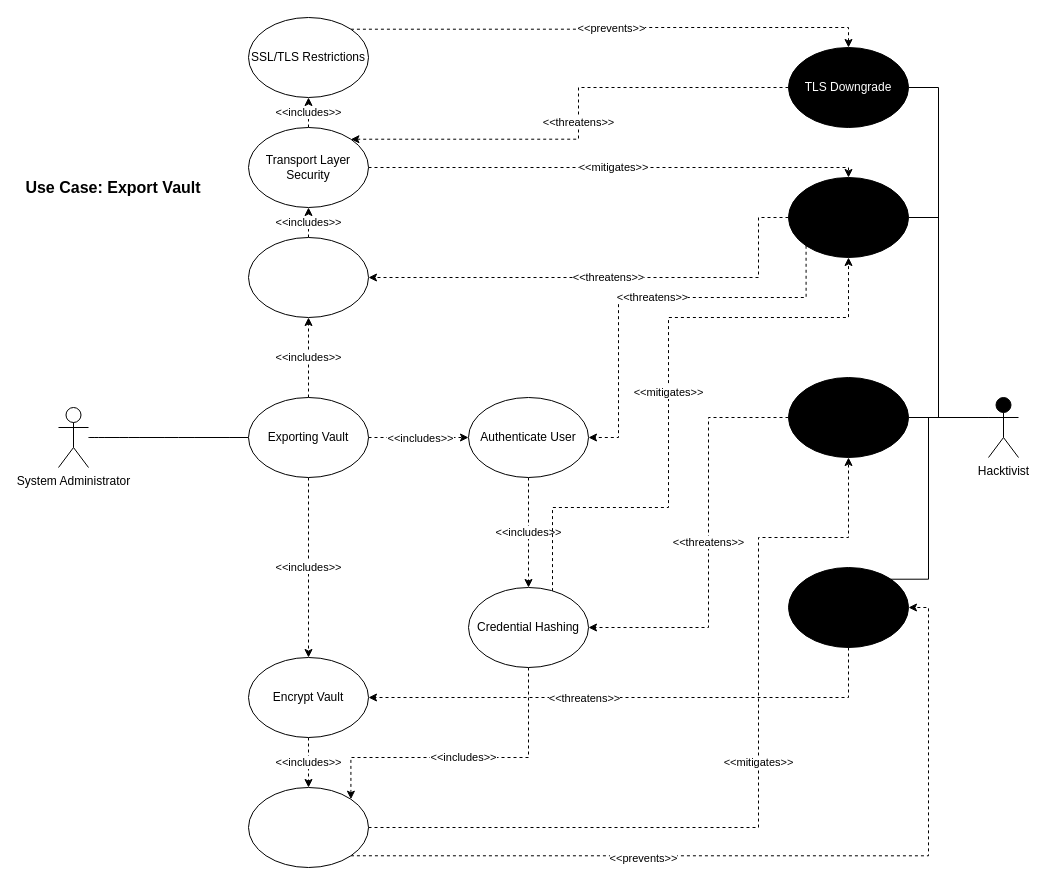
This 1046x885 diagram has some shape labels left out. The centre of each missing label's shape, as x and y in pixels:
B rute Force Attack: the point at 848,417
Exploit Weak Crypto: the point at 848,607
Network Eavesdroping: the point at 848,217
Strong Crypto: the point at 308,827
Sync Credentials: the point at 308,277
